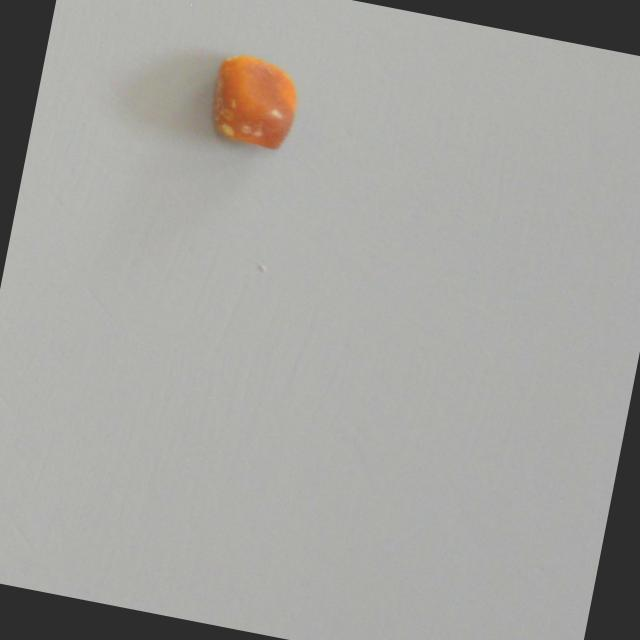dañado: (204, 50, 302, 154)
